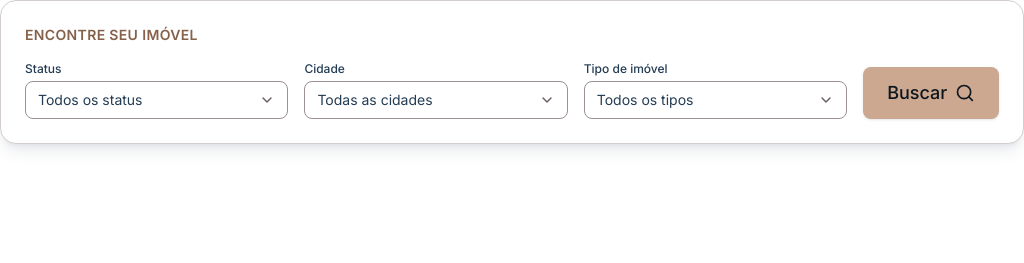
Test: DevelopmentSearchBar (busca da home) › só oferece tipologias que o conteúdo sustenta
The image size is (1024, 263).
Step 1. Click the dropdown named "tipo de im" → (645, 100), box x1=584 y1=81 x2=847 y2=119
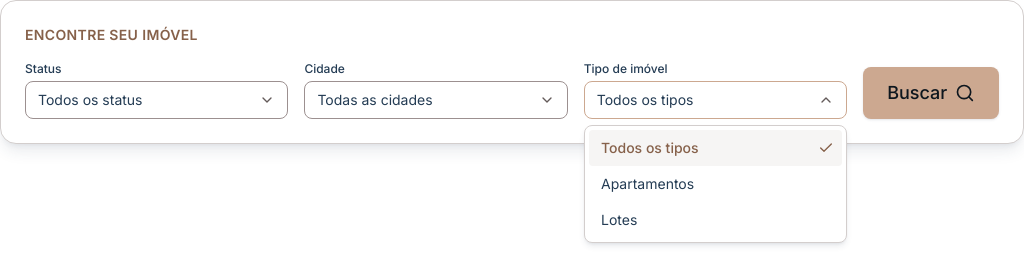
Expected: the option "Lotes" is shown, x1=601 y1=211 x2=637 y2=228
Expected: the option "Apartamentos" is shown, x1=601 y1=175 x2=694 y2=192
